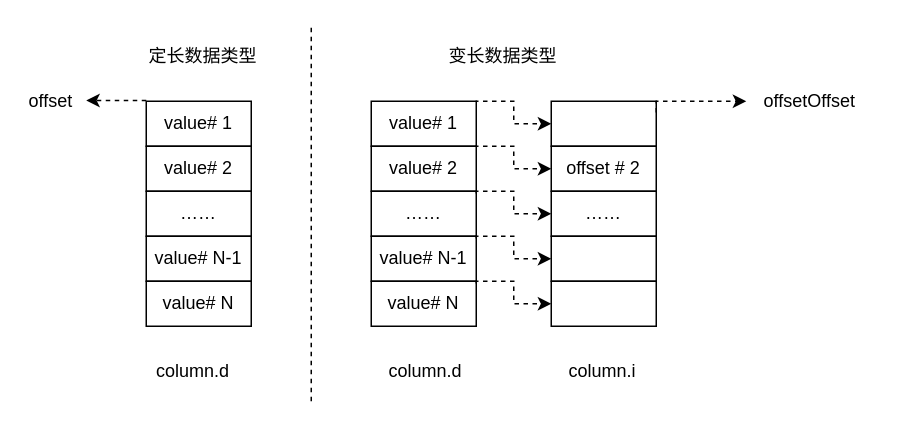
The diagram is 906 pixels wide and 429 high, and some of its shapes have lost their labels. The shapes that lost their labels are listed below. From the top down, each one's centre as x and y in pixels, then its label:
point 603,123: offset #1
point 603,258: offset # N-1
point 603,303: offset# N
